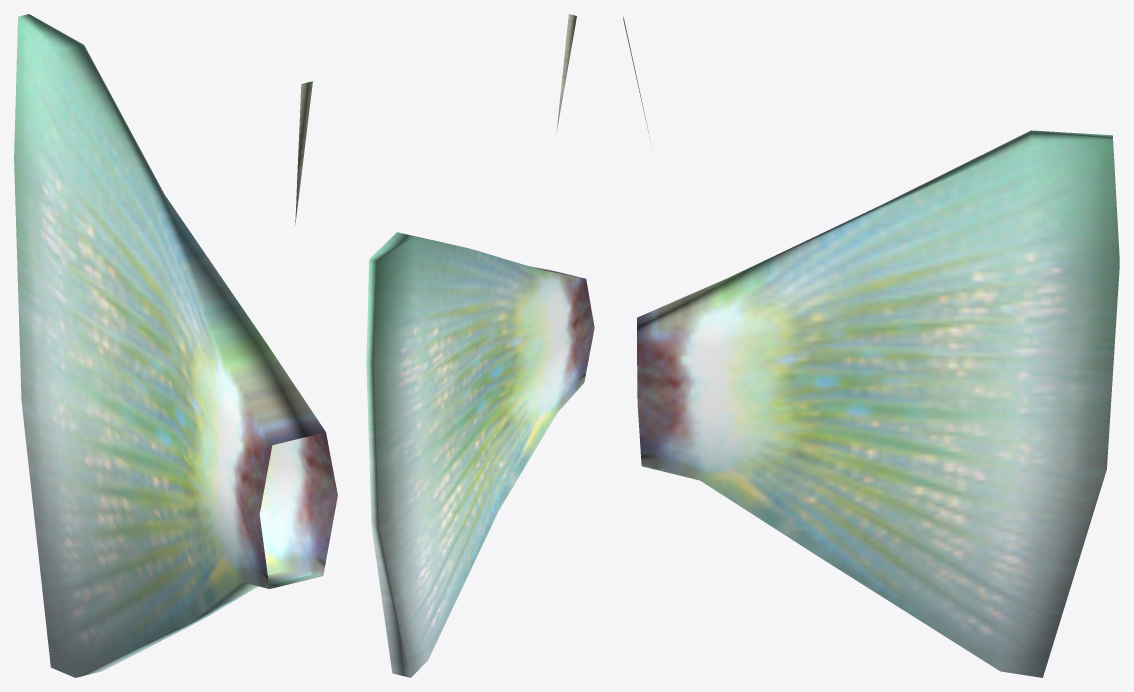
The model's file is fish1cola.obj.
The picture shows the model from 3 angles, left to right: view 1: azimuth 30°, elevation 25°; view 2: azimuth 150°, elevation 25°; view 3: azimuth 270°, elevation 25°; orthographic projection. The views are drawn at different scales.
Parts seen in each view (by area): view 1: TropicalFish01_TropicalFish01; view 2: TropicalFish01_TropicalFish01; view 3: TropicalFish01_TropicalFish01.
Boxes of the visible parts, <box> form: TropicalFish01_TropicalFish01: <box>14,14,337,677</box>; TropicalFish01_TropicalFish01: <box>366,14,594,677</box>; TropicalFish01_TropicalFish01: <box>623,16,1119,677</box>.
Bounding box in the file's own units: 0.1489 × 1.38 × 0.9474.
Materials: 1 (1 with a texture image).
